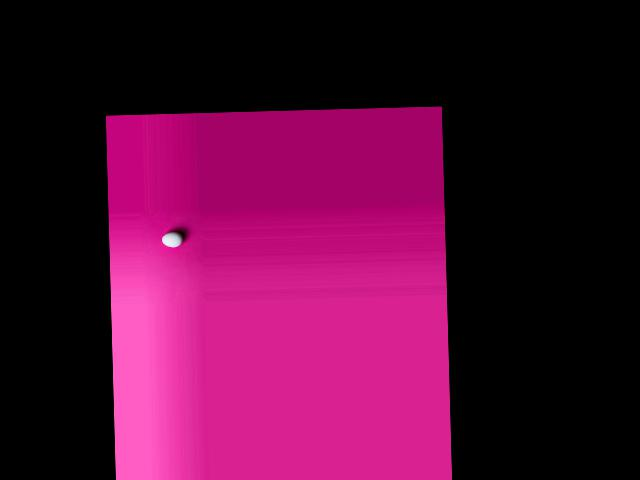egg: (161, 232, 183, 248)
